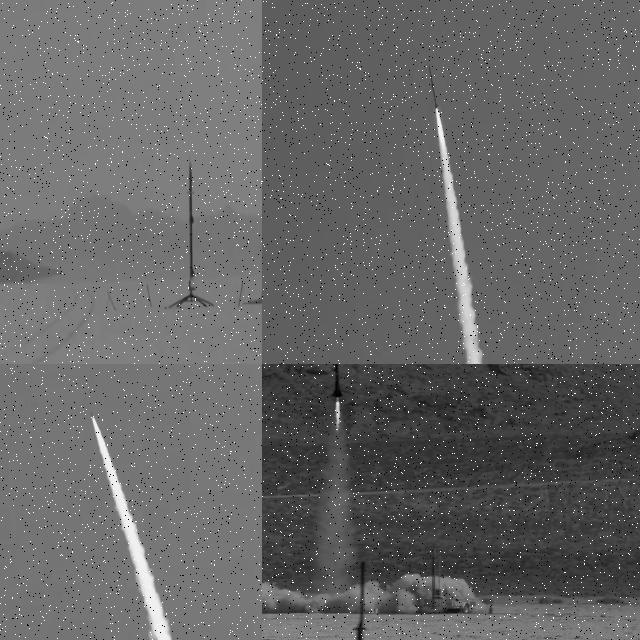Rocket: (190, 161, 196, 279), (428, 65, 439, 109), (330, 364, 343, 398), (90, 411, 94, 419)
